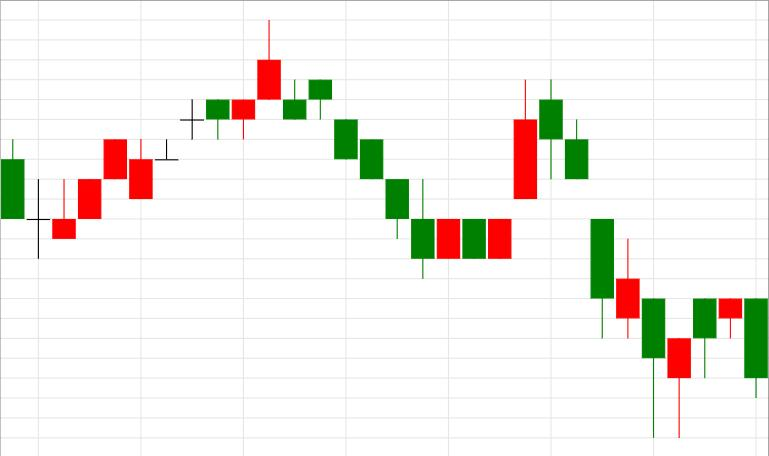hammer_rise: (539, 79, 691, 438), (539, 79, 665, 438)
